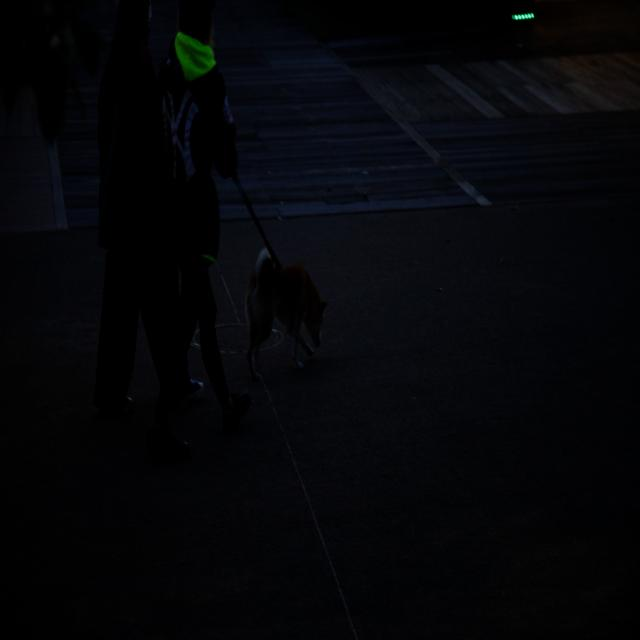Leashed_Dog: (199, 155, 329, 382)
